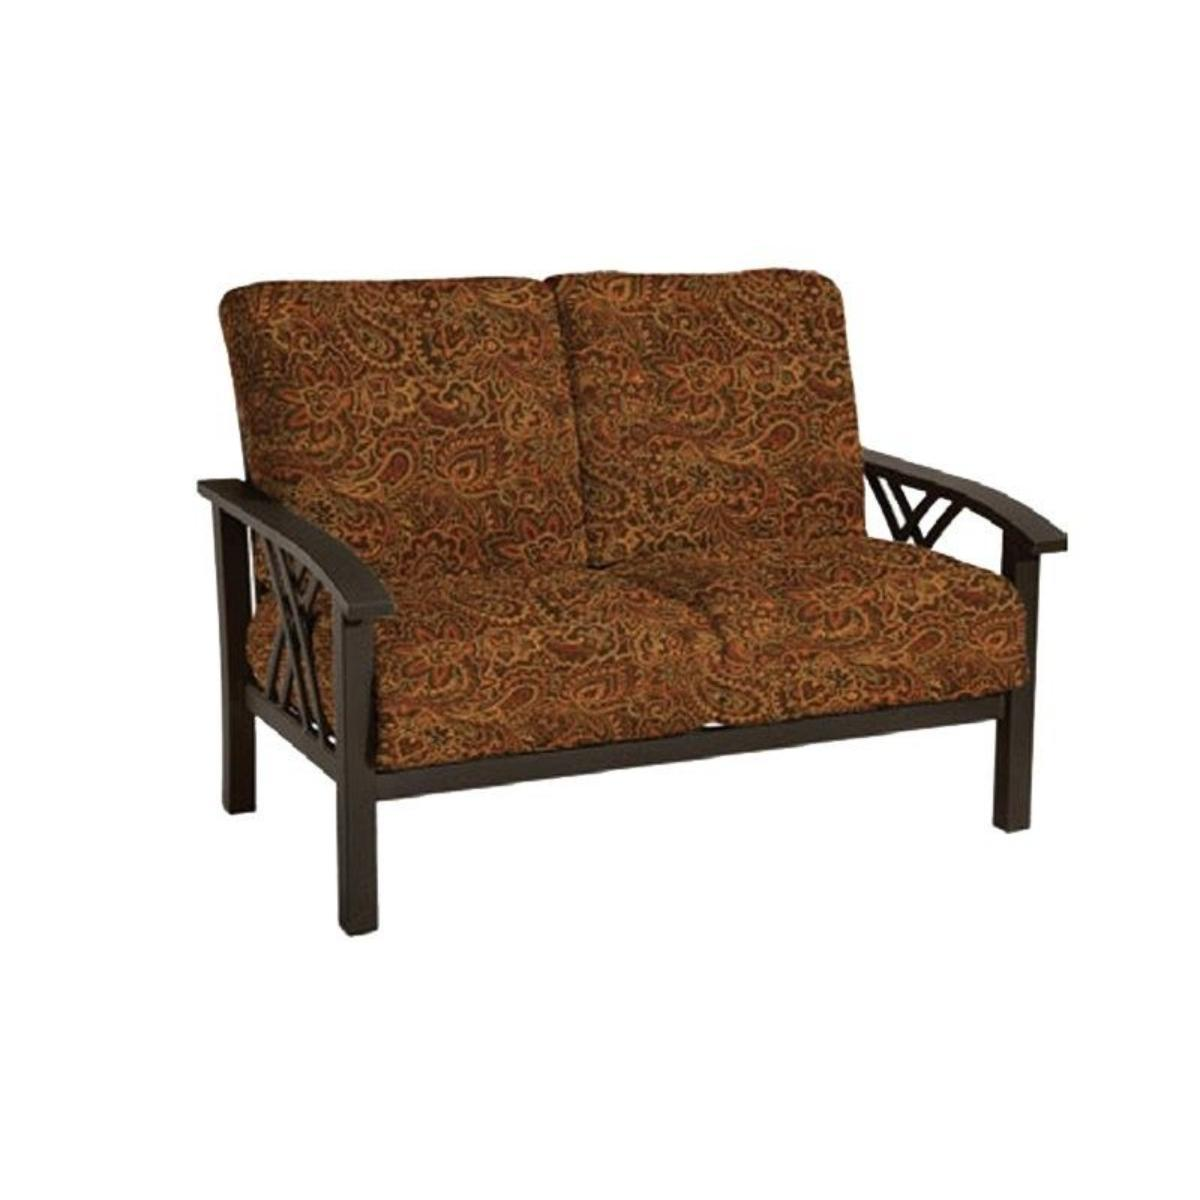Sofa: (195, 266, 1071, 934)
